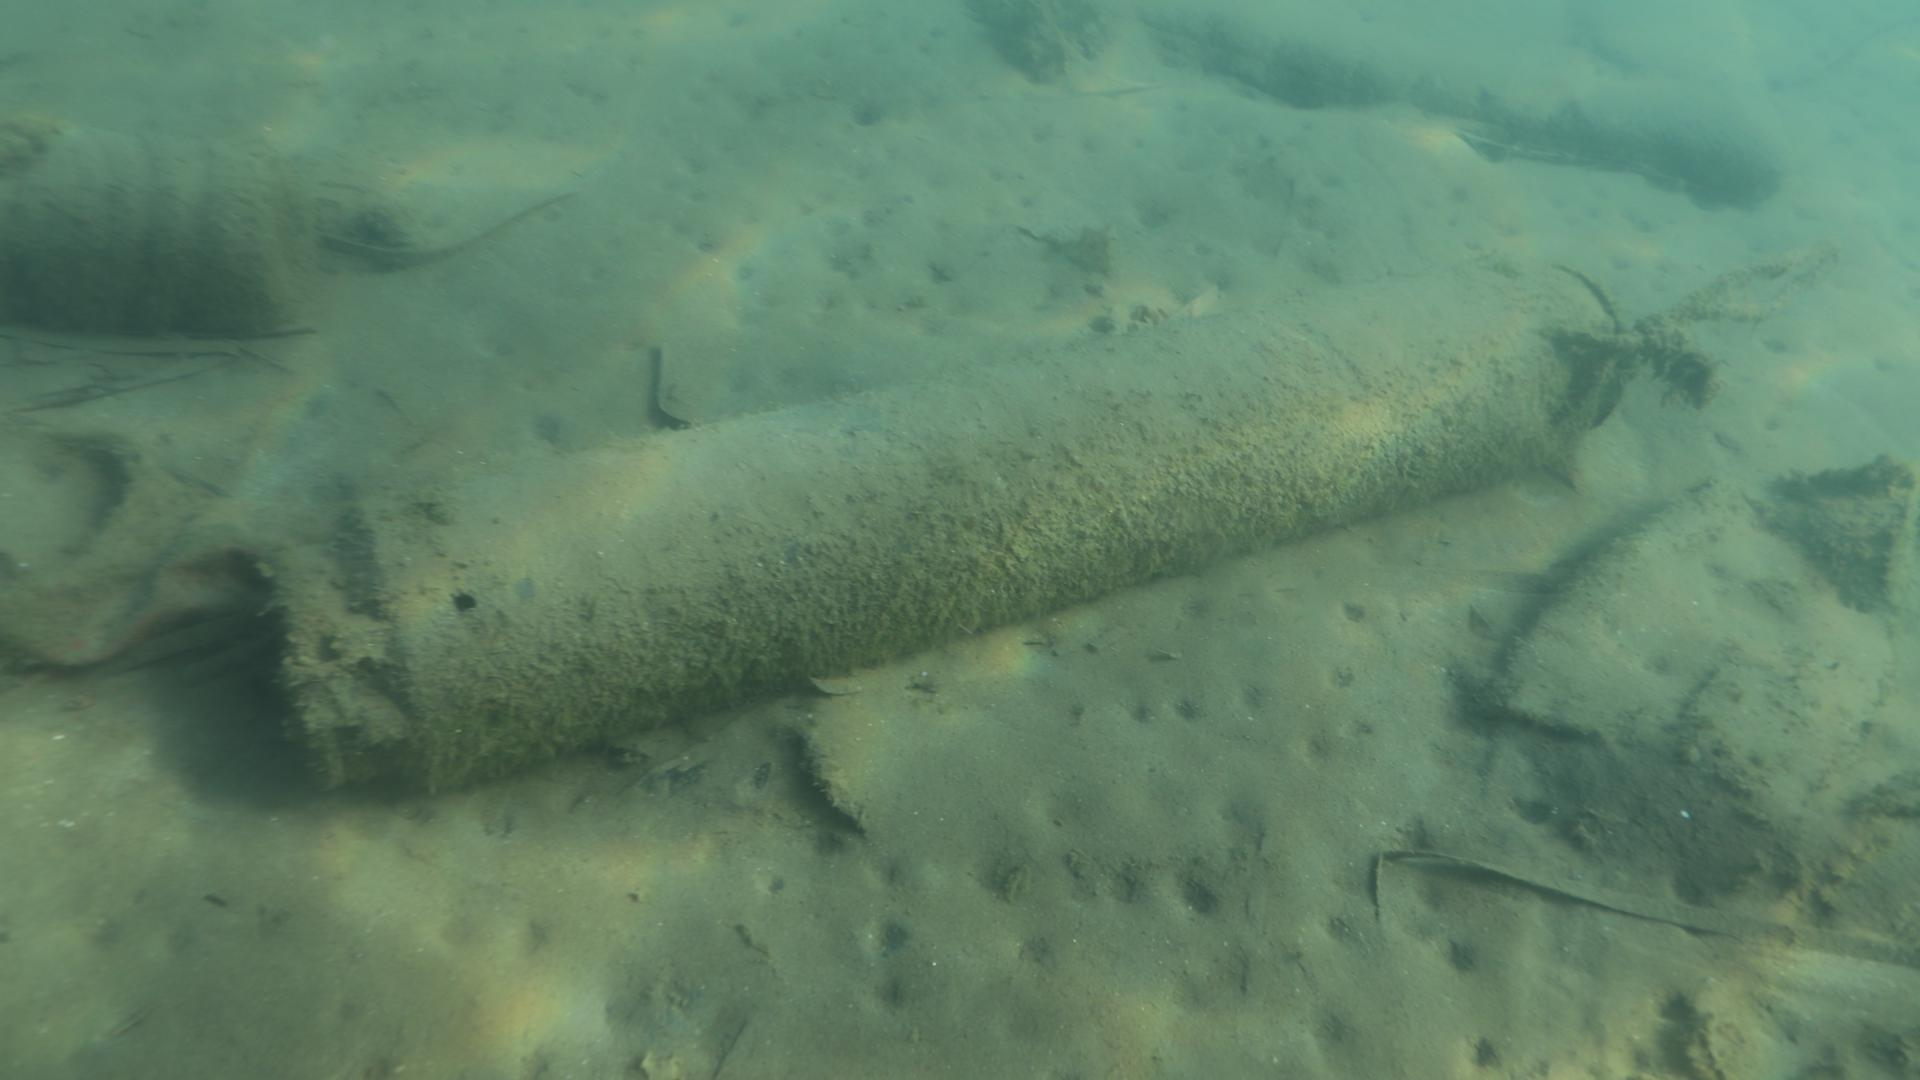eel fish trap: (265, 255, 1643, 800)
